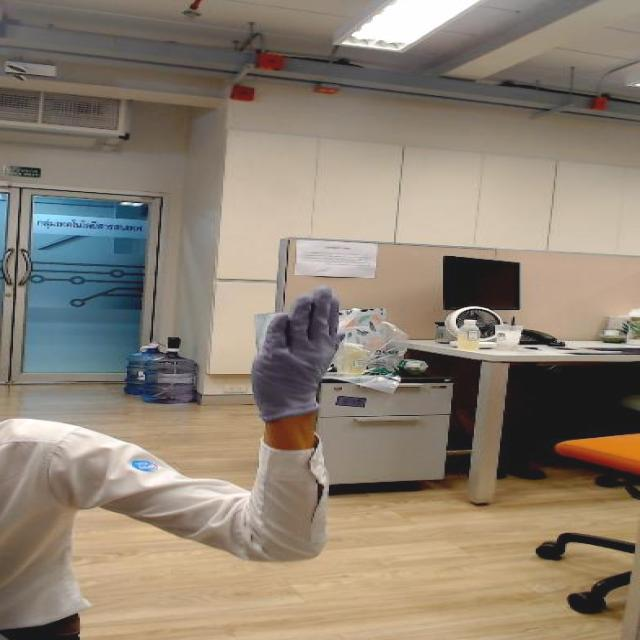glove: (204, 281, 382, 407)
